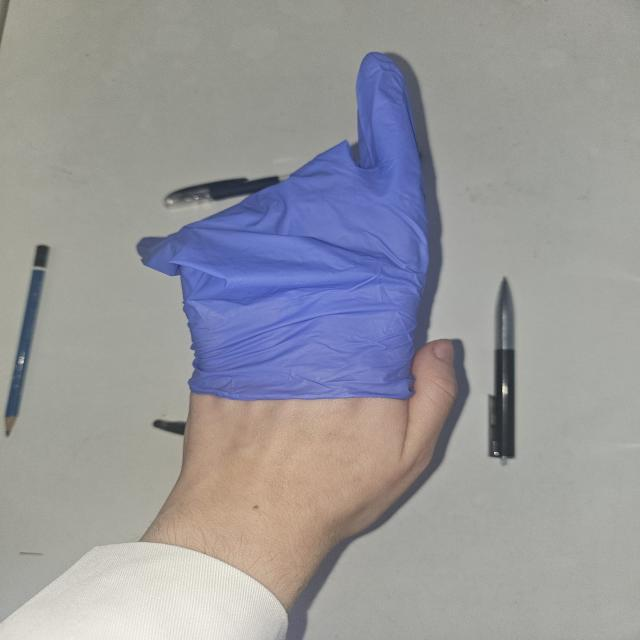glove_partial: (134, 52, 461, 530)
